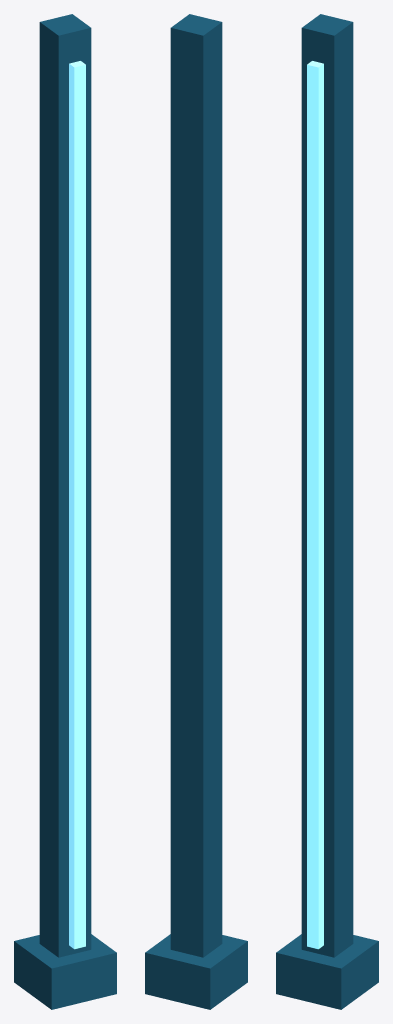
Rendered from sci-fi-courtyard-pylon-left.collider.glb.
The picture shows the model from 3 angles, left to right: view 1: azimuth 30°, elevation 25°; view 2: azimuth 150°, elevation 25°; view 3: azimuth 330°, elevation 25°; orthographic projection.
Parts seen in each view (by area): view 1: courtyard-pylon-body, courtyard-pylon-emissive; view 2: courtyard-pylon-body; view 3: courtyard-pylon-body, courtyard-pylon-emissive.
Boxes of the visible parts, x1,y1,x2,y2 form: courtyard-pylon-body: (14, 14, 116, 1009); courtyard-pylon-emissive: (69, 61, 85, 949); courtyard-pylon-body: (145, 14, 247, 1009); courtyard-pylon-body: (276, 14, 378, 1009); courtyard-pylon-emissive: (307, 61, 323, 949).
Bounding box in the file's own units: 0.56 × 7.91 × 0.56.
